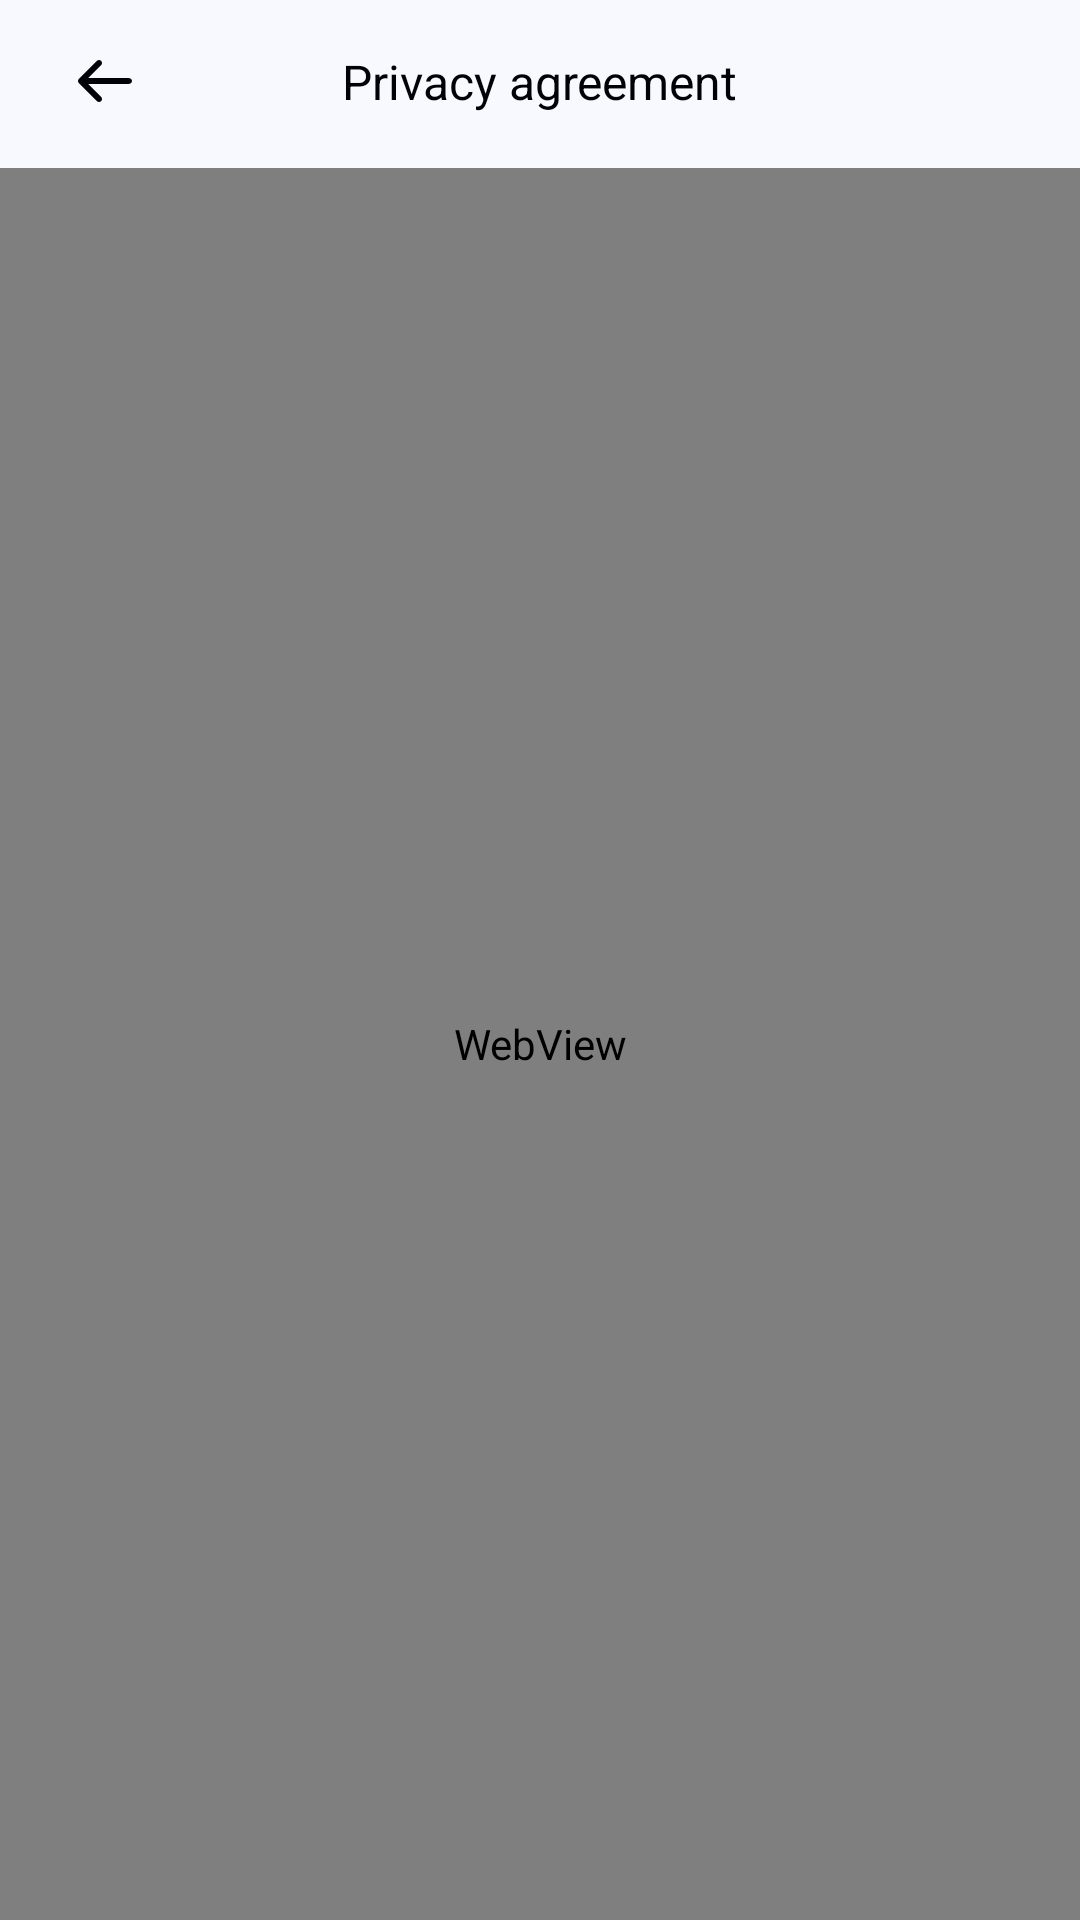

Named icons in this screenshot (1080px x 1920px) and their centers, (x,y):
back: (105,81)
